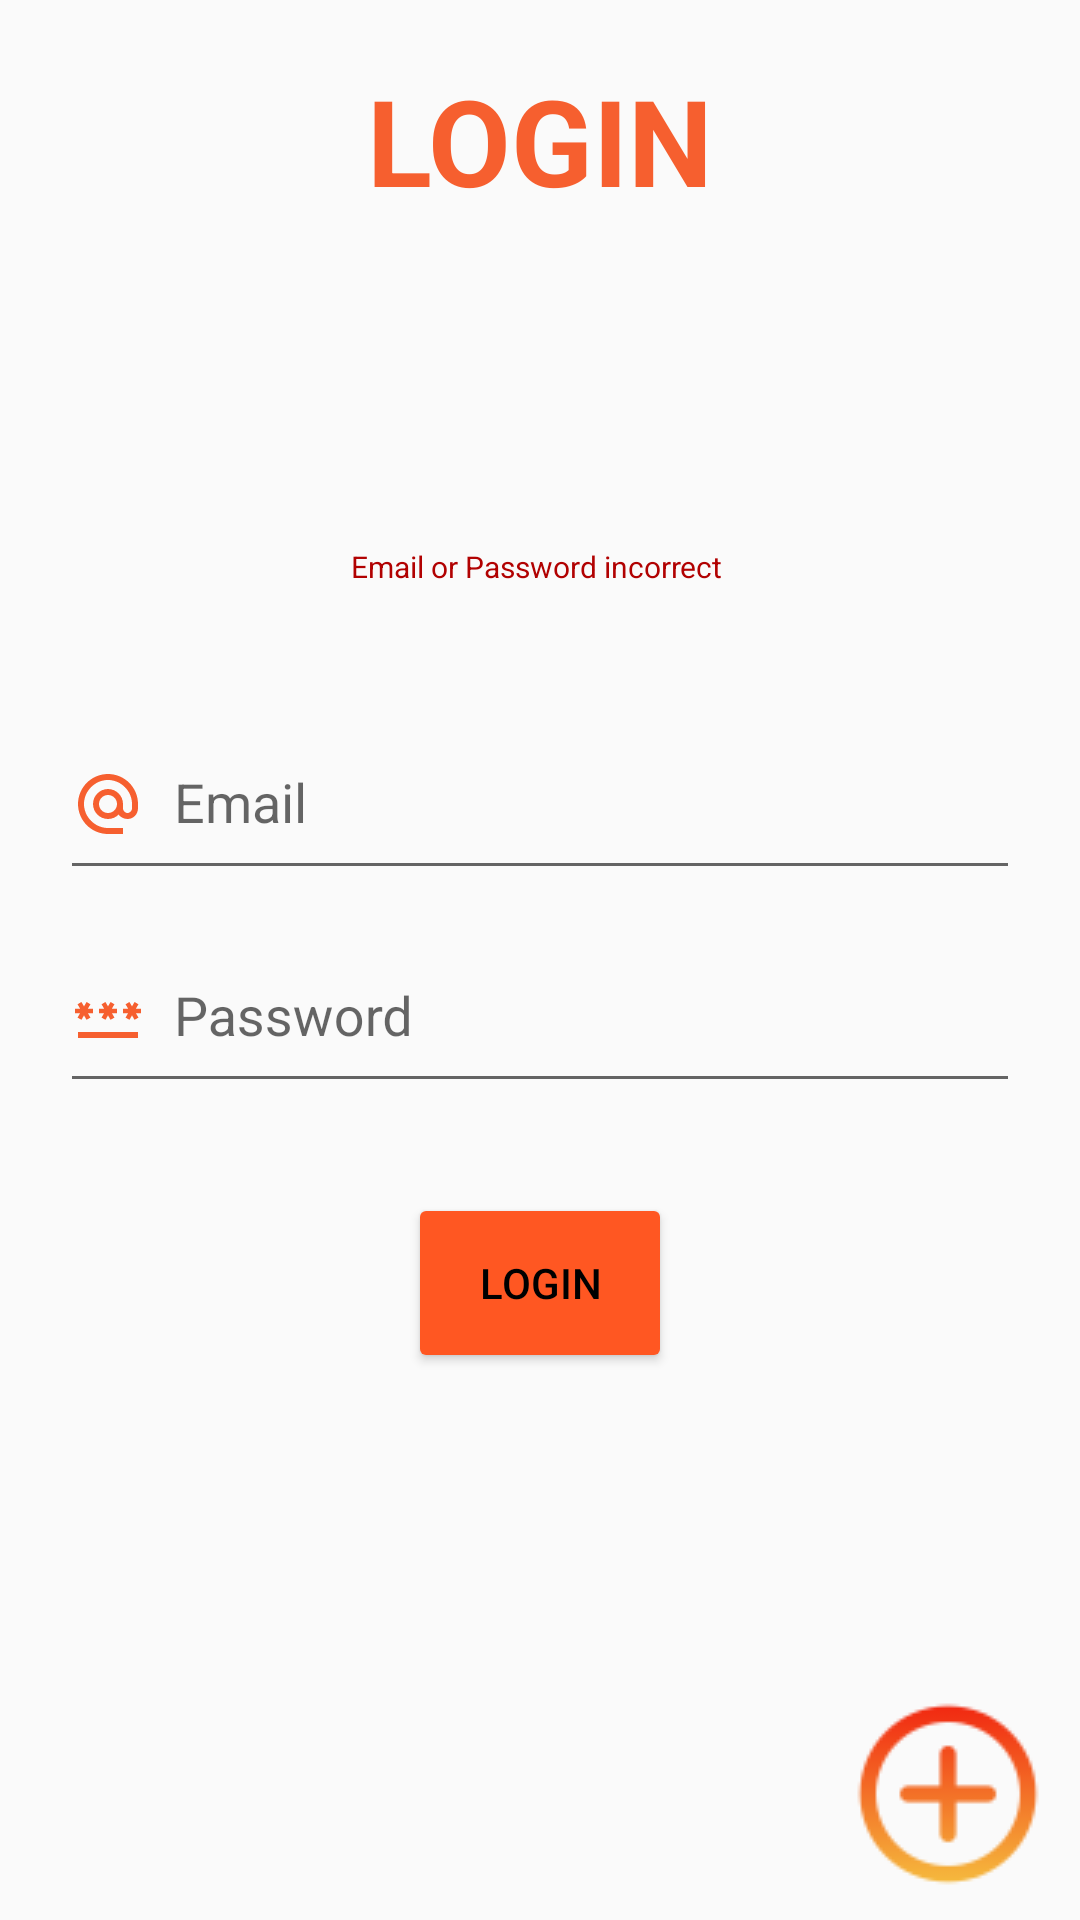

Locate icon controls on the screen. Image size 1080px×1920px, boxes as [x1, y1, x2, y2].
plus: [858, 1703, 1038, 1884]
